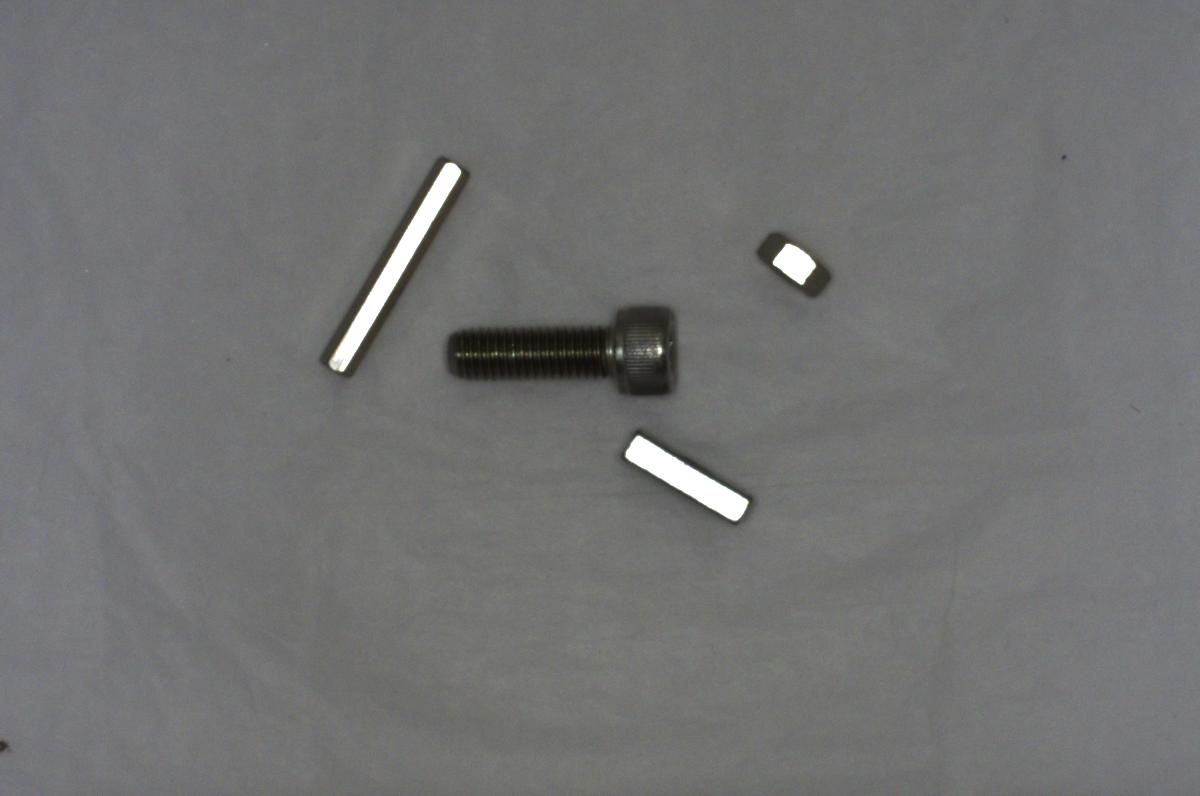Double hexagonal column: (312, 150, 467, 375)
Hexagon nut: (747, 223, 830, 300)
Hexagon screw: (448, 299, 680, 398)
Rectangular nut: (619, 425, 752, 536)
